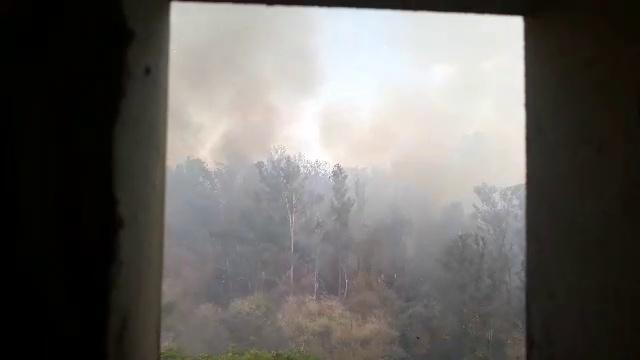smoke: (173, 8, 285, 95), (408, 118, 455, 249)
